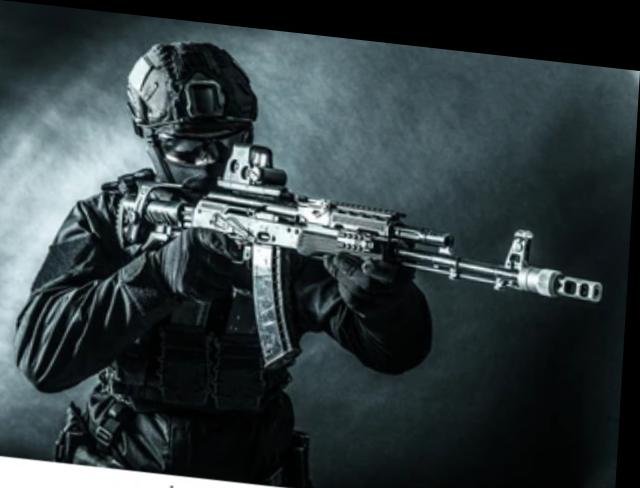other: (10, 19, 339, 473)
